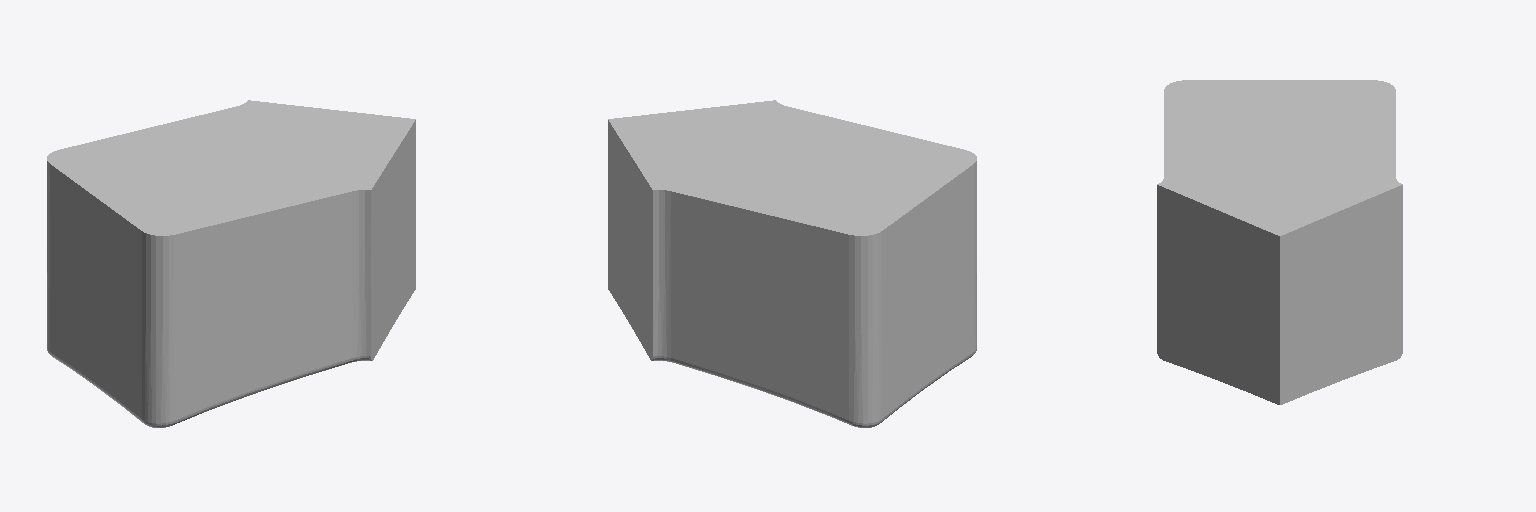
File: DPadLeft.obj
3 views of the same model, side by side, from view 1: azimuth 30°, elevation 25°; view 2: azimuth 150°, elevation 25°; view 3: azimuth 270°, elevation 25° (orthographic).
Visible parts, largest first — view 1: DPadLeft; view 2: DPadLeft; view 3: DPadLeft.
Boxes of the visible parts, <box> form: DPadLeft: <box>47,100,415,427</box>; DPadLeft: <box>608,100,976,427</box>; DPadLeft: <box>1157,80,1402,404</box>.
Bounding box in the file's own units: 9.25 × 5.39 × 6.15.